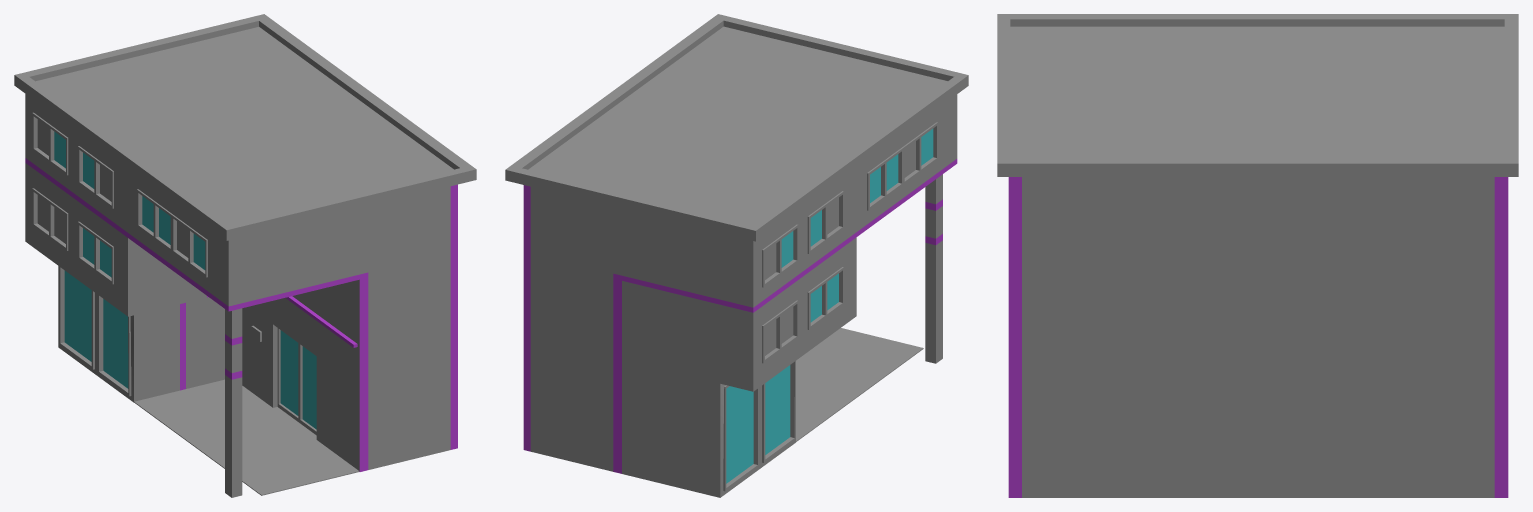
The model's file is buildings_S_07_VAR1.fbx.
The picture shows the model from 3 angles, left to right: view 1: azimuth 30°, elevation 25°; view 2: azimuth 150°, elevation 25°; view 3: azimuth 270°, elevation 25°; orthographic projection. The views are drawn at different scales.
Visible parts, largest first — view 1: buildings_S_07_VAR1; view 2: buildings_S_07_VAR1; view 3: buildings_S_07_VAR1.
Boxes of the visible parts, box(x1,y1,x2,y2) form: buildings_S_07_VAR1: box(14, 14, 476, 497); buildings_S_07_VAR1: box(505, 14, 968, 497); buildings_S_07_VAR1: box(997, 14, 1518, 497).
Size of the model in its own units: 8.32 by 8.88 by 12.24.
